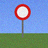sign: (15, 4, 30, 37)
